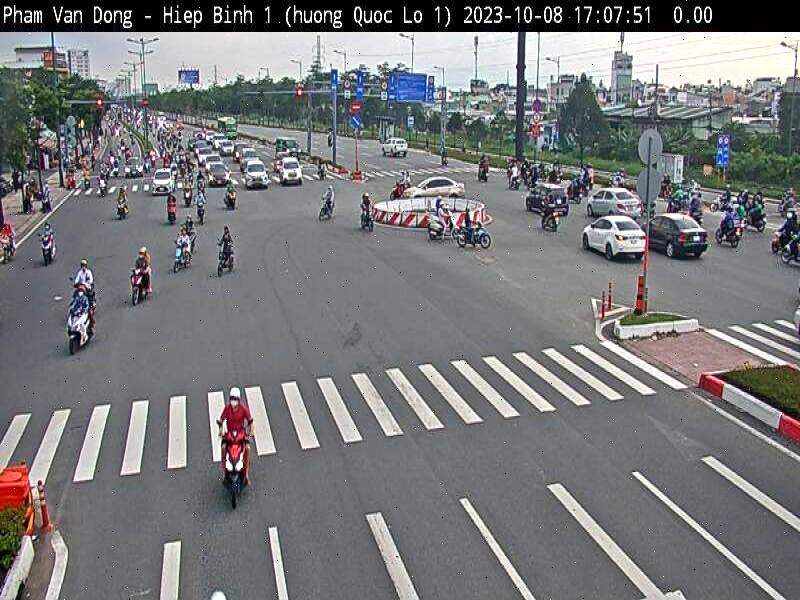car: (581, 212, 650, 268), (642, 212, 707, 262), (404, 174, 470, 203), (586, 188, 642, 222), (523, 181, 573, 217), (152, 163, 176, 200), (244, 159, 272, 189), (278, 157, 306, 186)
motorcycle: (220, 426, 253, 512), (64, 298, 99, 358), (126, 265, 155, 306), (458, 222, 495, 249), (424, 216, 464, 240), (169, 240, 194, 276), (40, 232, 57, 266)
